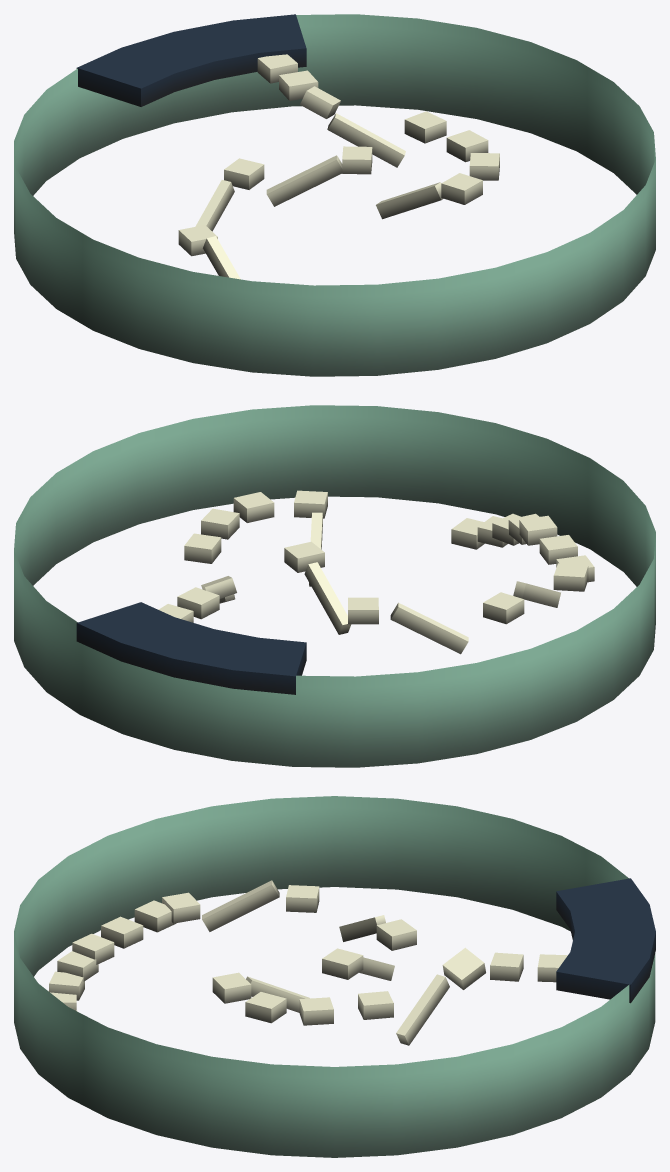
Rendered from Chunk08.glb.
3 renders of one model, top to bottom at view 1: azimuth 30°, elevation 25°; view 2: azimuth 150°, elevation 25°; view 3: azimuth 270°, elevation 25°, orthographic.
Visible parts, largest first — view 1: Chunk08; view 2: Chunk08; view 3: Chunk08.
Boxes of the visible parts, left/top/right/bottom form: Chunk08: left=14, top=14, right=655, bottom=376; Chunk08: left=14, top=405, right=655, bottom=767; Chunk08: left=14, top=796, right=655, bottom=1157.
Size of what is drawn, in the model's own units: 69.14 by 12.1 by 69.22.
1 material, 1 textured.
